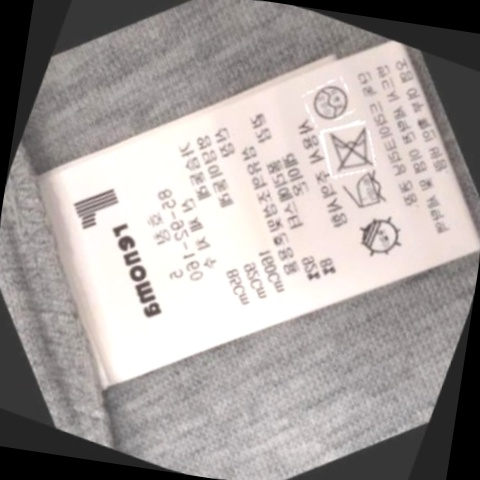DN_wash: (313, 116, 384, 181)
dry_clean_petrol_only: (301, 72, 358, 128)
iron_low: (335, 163, 398, 222)
line_dry_in_shade: (343, 206, 411, 267)
